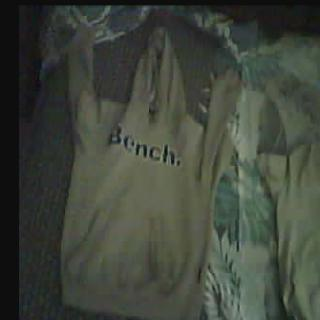Yellow Hoodie: (57, 23, 234, 320)
Yellow T-Shirt: (258, 133, 320, 319)
